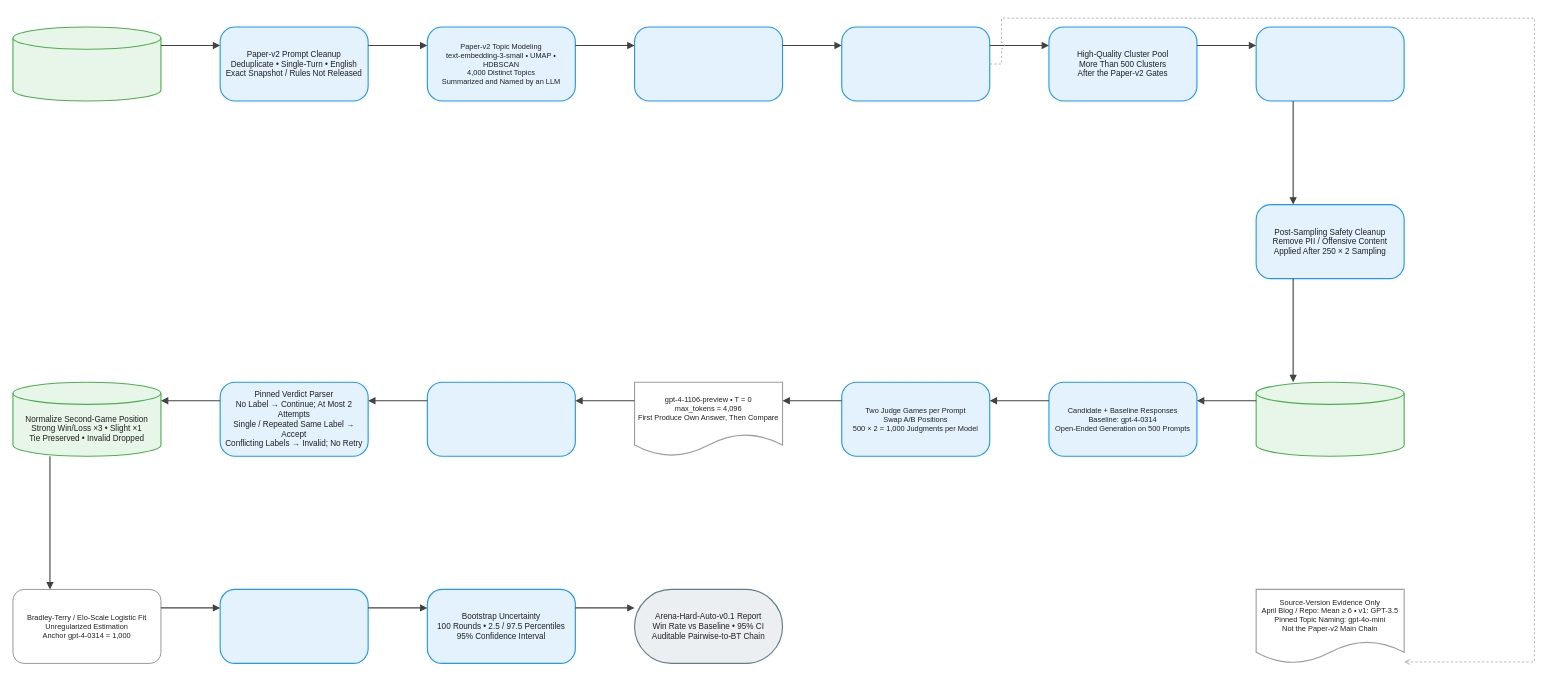
The diagram is 1554 pixels wide and 681 high, and some of its shapes have lost their labels. Each missing label, with the centre of its shape:
"Arena-Hard-Auto-v0.1 Official 500-Prompt Release 250 Topic Clusters × 2" goes at point (1329, 418).
"Chatbot Arena Query Pool 200,000 Crowdsourced Prompts" goes at point (86, 63).
"Convert Fit to Win Rate Against gpt-4-0314 Default Report Is Not Elo Rating" goes at point (293, 626).
"Diverse Random Sampling Randomly Select 250 Clusters 2 Prompts Each = 500" goes at point (1329, 63).
"Five Allowed Verdict Labels [[A>>B]] • [[A>B]] • [[A=B]] [[B>A]] • [[B>>A]]" goes at point (501, 418).
"Paper-v2 Quality Annotation GPT-4-Turbo • Seven Criteria Each Prompt Scored 0–7" goes at point (708, 63).
"Paper-v2 Quality Gates Keep Prompt Score ≥ 6 Keep Cluster Mean ≥ 5" goes at point (915, 63).
